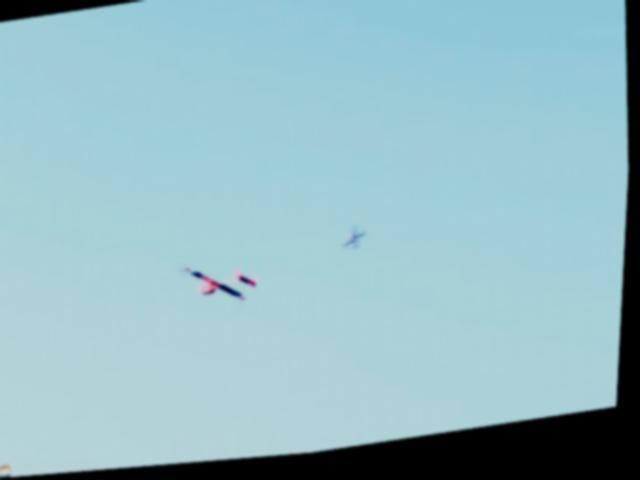uav: (175, 250, 278, 322)
